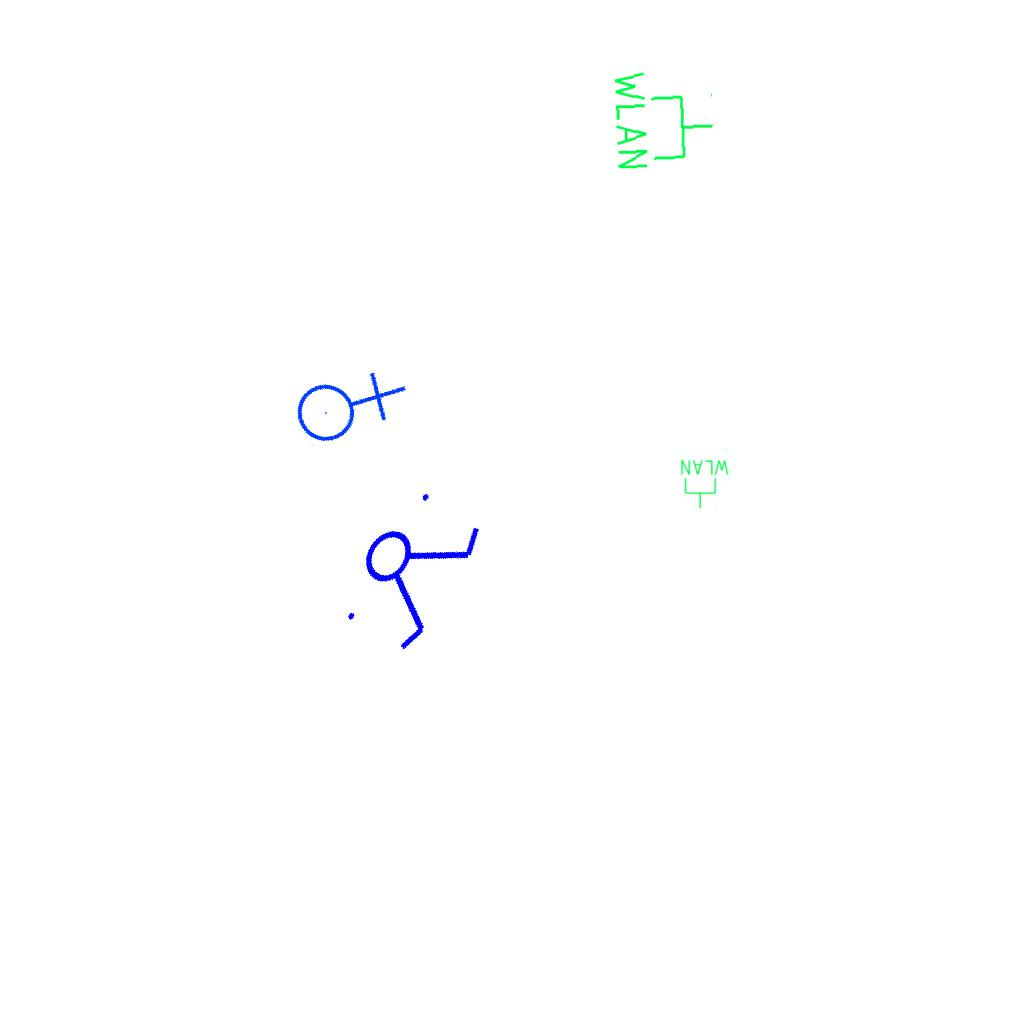Elektroanschluss_allgemein_230V_Geraeteanschlussdose_230V: (279, 338, 410, 468)
Serienschalter: (325, 472, 497, 666)
WLAN: (609, 63, 719, 174), (679, 458, 731, 510)
